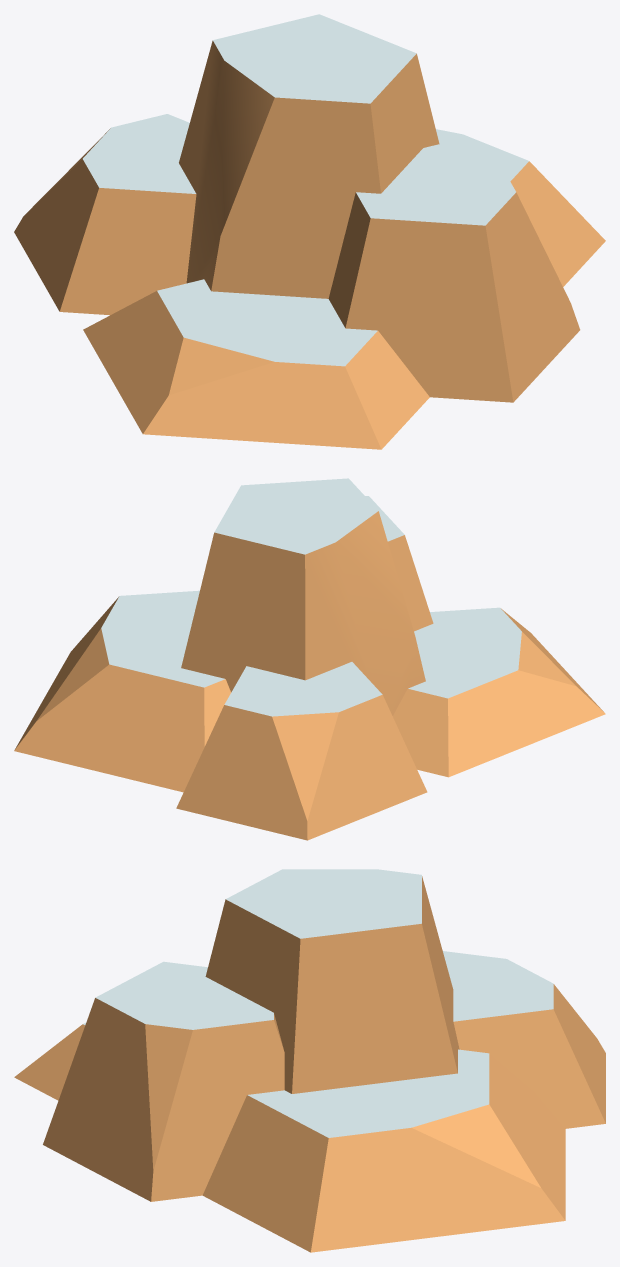
File: snow_detail_dirtLarge.fbx
3 views of the same model, one above another, from view 1: azimuth 30°, elevation 25°; view 2: azimuth 150°, elevation 25°; view 3: azimuth 270°, elevation 25° (orthographic). The views are drawn at different scales.
Visible parts, largest first — view 1: snow_detail_dirtLarge; view 2: snow_detail_dirtLarge; view 3: snow_detail_dirtLarge.
Boxes of the visible parts, x1,y1,x2,y2 form: snow_detail_dirtLarge: (14, 14, 605, 449); snow_detail_dirtLarge: (14, 478, 605, 840); snow_detail_dirtLarge: (14, 869, 605, 1252).
Size of the model in its own units: 10 by 4.19 by 10.
